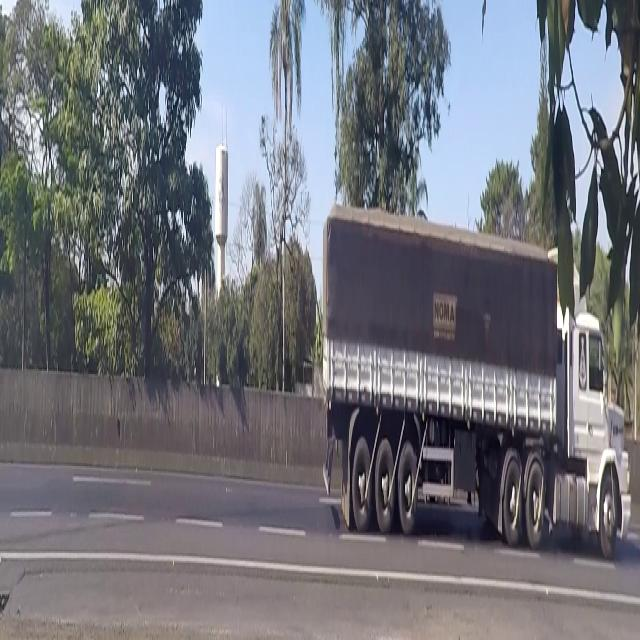-axle: (352, 422, 373, 544), (397, 436, 420, 539), (526, 440, 545, 562), (502, 443, 522, 556), (600, 474, 620, 579), (376, 429, 395, 539)
